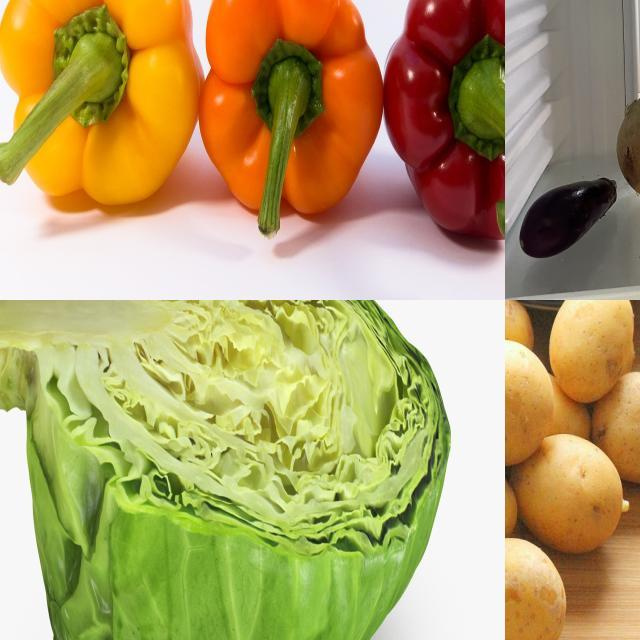bell_pepper: (200, 1, 390, 239), (1, 1, 203, 200), (386, 1, 506, 251)
cabbage: (1, 301, 454, 640)
eggplant: (519, 177, 618, 261)
onion: (619, 68, 640, 202)
potato: (522, 446, 614, 541), (548, 301, 631, 384), (506, 551, 560, 640), (506, 355, 550, 455), (601, 376, 640, 482)
